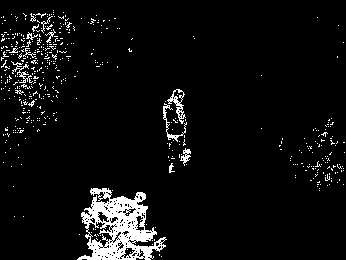person: (163, 88, 191, 169)
